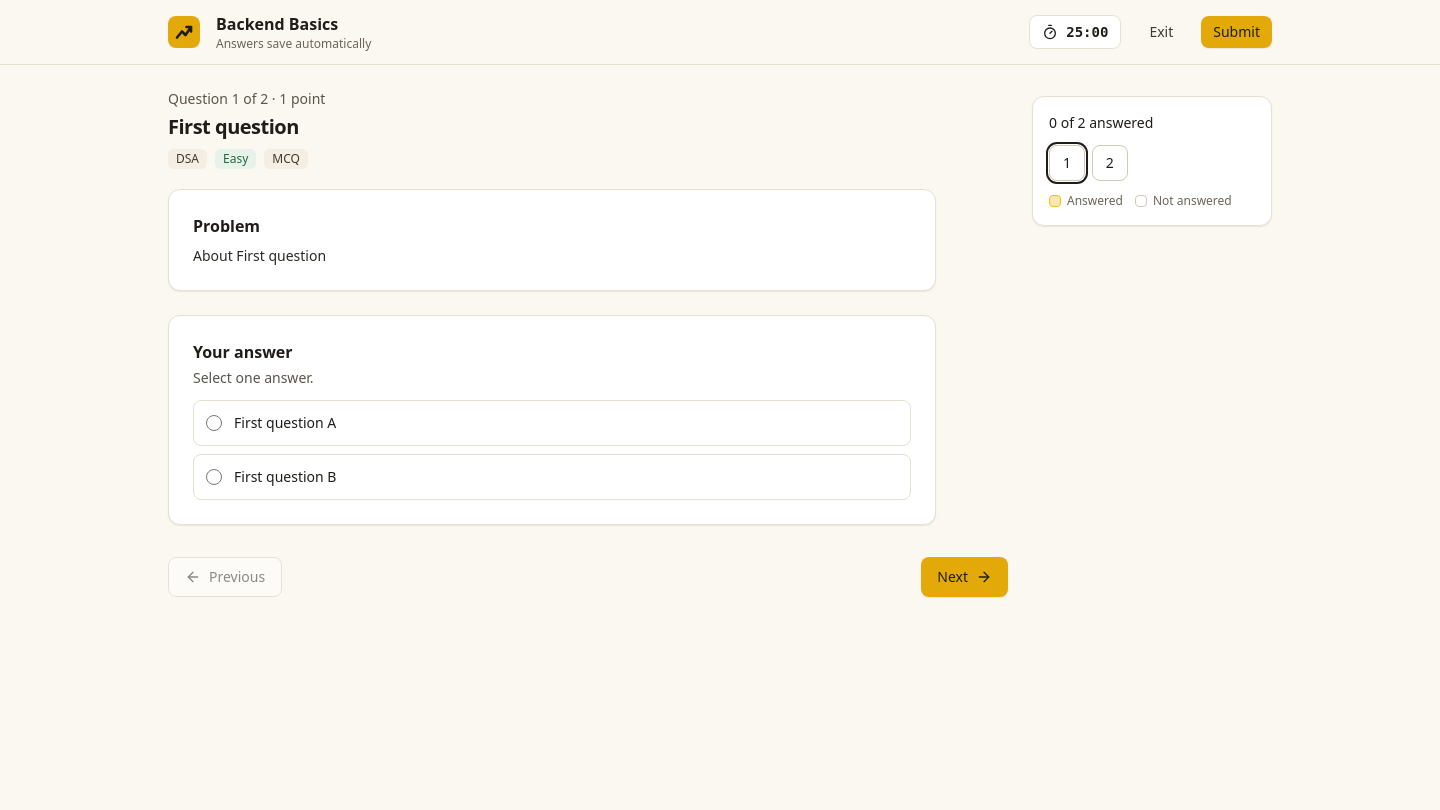
Scenario: exam shell › shows the timer and navigator, autosaves an answer and marks it answered
The width and height of the screenshot is (1440, 810).
Check: the heading "First question" is shown, box [168,113,299,140]
Check: the element showing "25:00" is shown, box [1029,15,1122,49]
Click the radio button labelled "First question B".
click(214, 477)  # box [206,469,222,485]
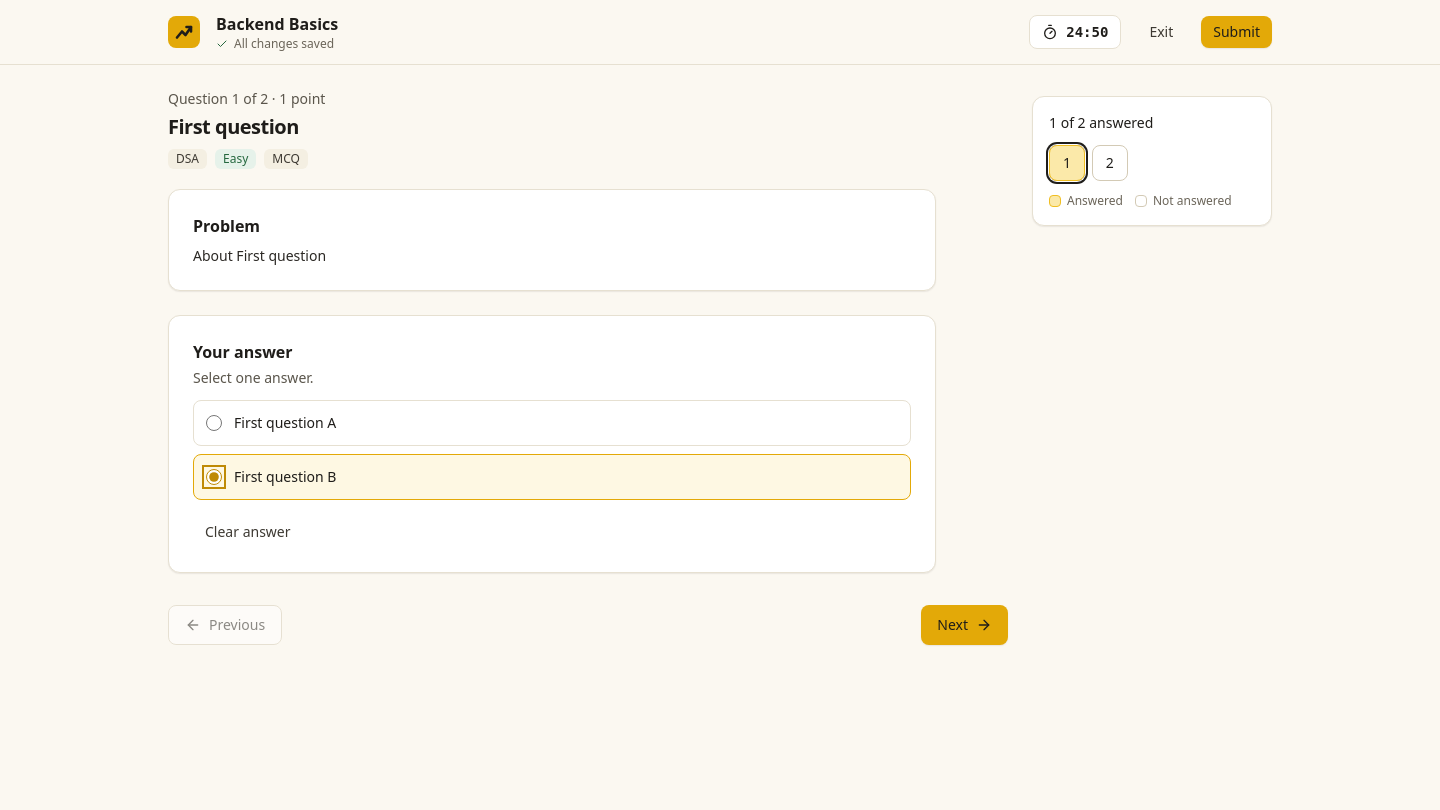
Check: the text "All changes saved" is shown, box [216,35,334,52]
Check: the button named "Question 1, answered" is shown, box [1049,145,1085,181]
Check: the text "1 of 2 answered" is shown, box [1049,113,1153,132]
